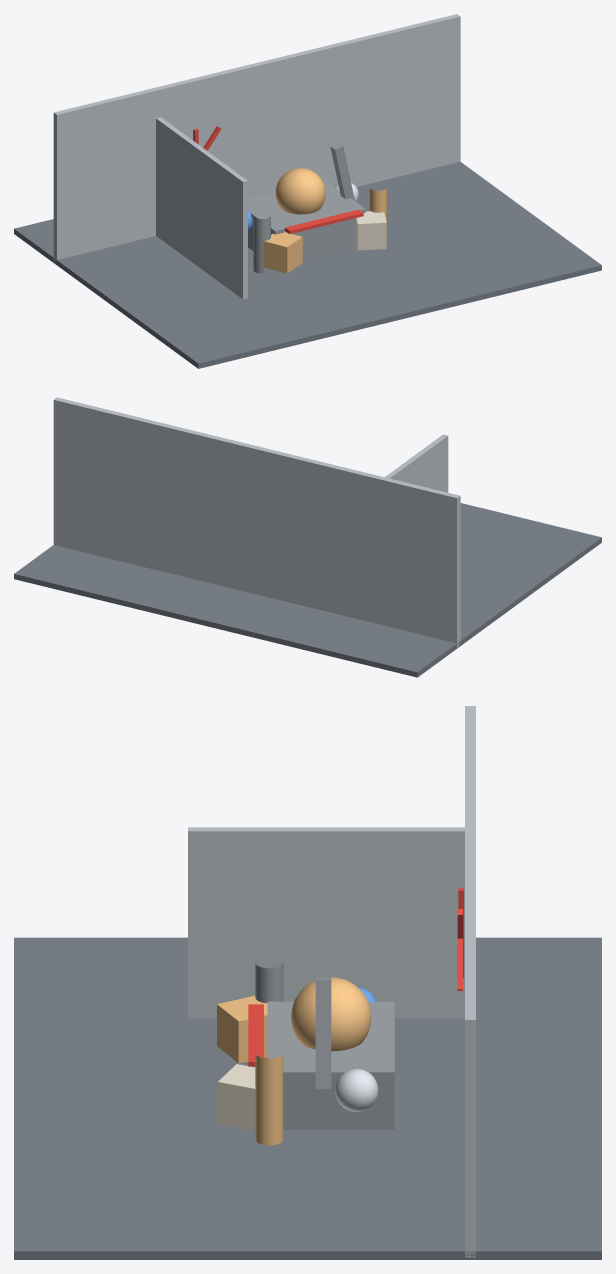
Rendered from Phase3Quad.gltf.
The picture shows the model from 3 angles, top to bottom: view 1: azimuth 30°, elevation 25°; view 2: azimuth 150°, elevation 25°; view 3: azimuth 270°, elevation 25°; orthographic projection. The views are drawn at different scales.
Parts seen in each view (by area): view 1: BackWall, MatteFloor, LeftSideWall, CenterPlinth, HeroBronzeSphere, BronzeTiltedCube, IvoryMaterialCube, LeftColumn, ShadowCasterBar, ThinAccentStep; view 2: BackWall, MatteFloor, LeftSideWall; view 3: MatteFloor, LeftSideWall, CenterPlinth, BackWall, HeroBronzeSphere, RightColumn, IvoryMaterialCube, BronzeTiltedCube, ShadowCasterBar, ChromeMaterialSphere, LeftColumn, ThinAccentStep.
Boxes of the visible parts, x1=… form: BackWall: x1=53, y1=14, x2=460, y2=263; MatteFloor: x1=14, y1=161, x2=601, y2=368; LeftSideWall: x1=156, y1=117, x2=247, y2=299; CenterPlinth: x1=248, y1=180, x2=365, y2=260; HeroBronzeSphere: x1=275, y1=168, x2=325, y2=214; BronzeTiltedCube: x1=263, y1=232, x2=302, y2=273; IvoryMaterialCube: x1=355, y1=211, x2=386, y2=250; LeftColumn: x1=253, y1=216, x2=270, y2=273; ShadowCasterBar: x1=330, y1=142, x2=354, y2=200; ThinAccentStep: x1=285, y1=209, x2=363, y2=233; BackWall: x1=53, y1=397, x2=460, y2=647; MatteFloor: x1=14, y1=503, x2=601, y2=677; LeftSideWall: x1=385, y1=434, x2=448, y2=492; MatteFloor: x1=14, y1=937, x2=601, y2=1259; LeftSideWall: x1=188, y1=827, x2=464, y2=1018; CenterPlinth: x1=267, y1=1001, x2=394, y2=1129; BackWall: x1=465, y1=706, x2=475, y2=1257; HeroBronzeSphere: x1=291, y1=977, x2=371, y2=1051; RightColumn: x1=255, y1=1053, x2=283, y2=1145; IvoryMaterialCube: x1=217, y1=1064, x2=255, y2=1130; BronzeTiltedCube: x1=217, y1=995, x2=267, y2=1063; ShadowCasterBar: x1=315, y1=977, x2=331, y2=1088; ChromeMaterialSphere: x1=335, y1=1069, x2=378, y2=1111; LeftColumn: x1=255, y1=963, x2=283, y2=1003; ThinAccentStep: x1=248, y1=1004, x2=263, y2=1066.
Size of the model in its own units: 9.6 by 3.42 by 7.6.
